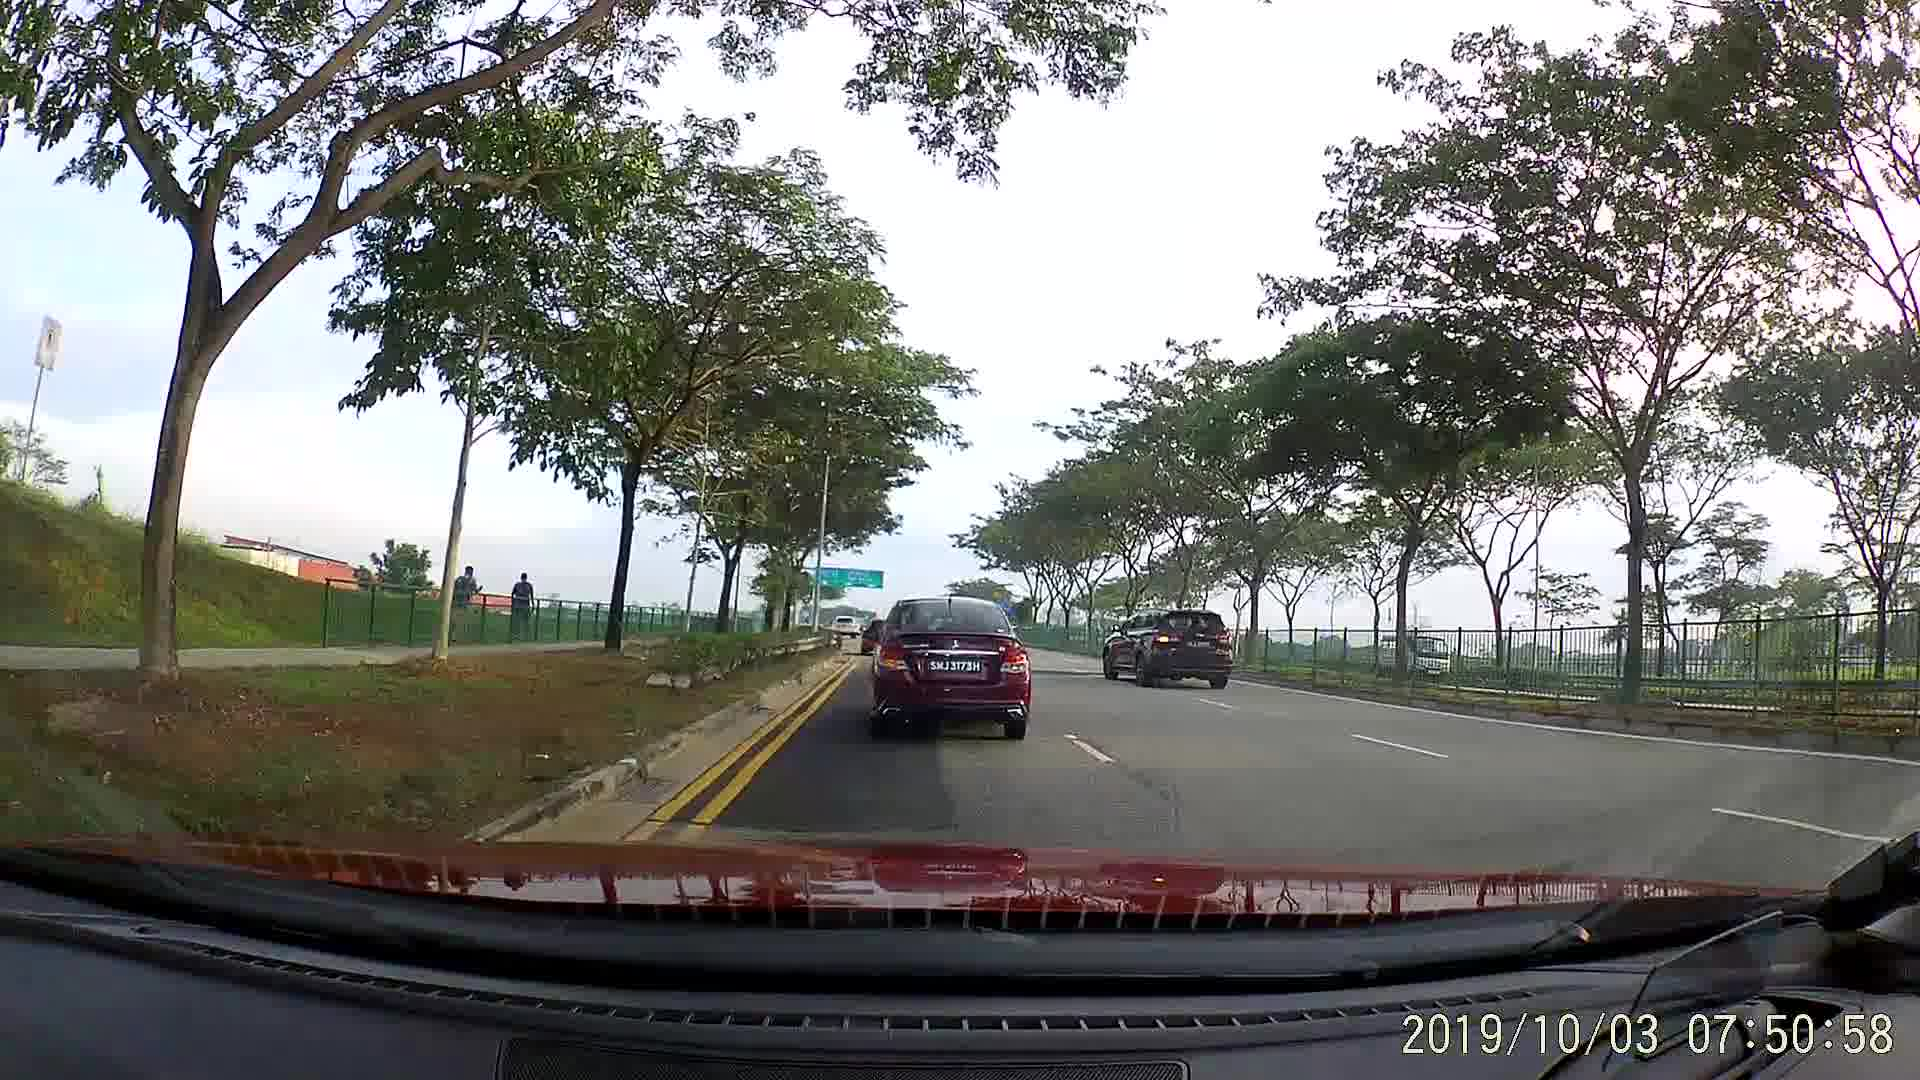car: (872, 589, 1034, 745), (1096, 604, 1234, 694), (831, 611, 861, 641)
